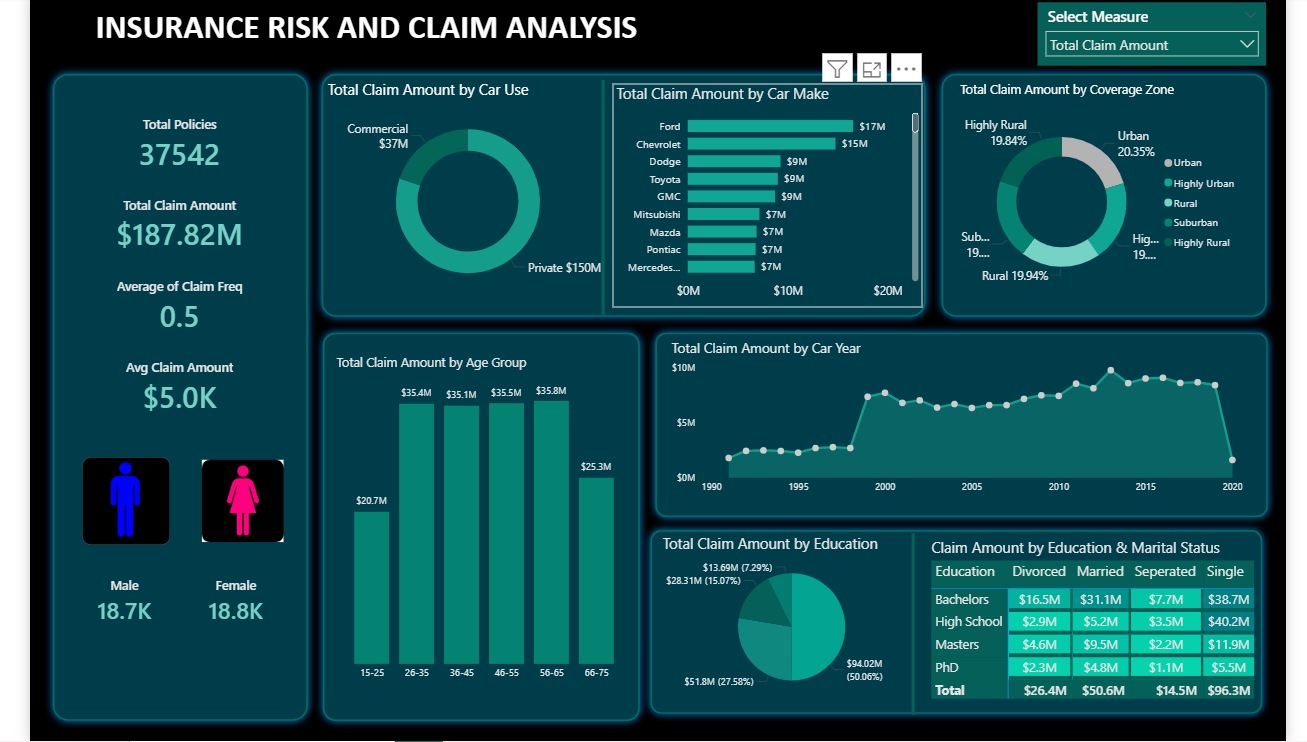

The page's visual inventory and layout, read from the dashboard file:
{"tool":"powerbi","page":{"name":"Insurance Risk & Claim Analysis","canvas":[1600,950],"ordinal":0},"visuals":[{"type":"textbox","box":[38.2,8,773.6,73.2],"z":0},{"type":"shape","box":[18.9,89.2,344.8,843.9],"z":1000},{"type":"cardVisual","fields":{"Data":["insurance_data_car.Total Policies","insurance_data_car.Total Claim Amount","Avg(insurance_data_car.Claim Freq)","insurance_data_car.Avg Claim Amount"]},"box":[62.1,135.3,257.9,404.3],"z":2000},{"type":"cardVisual","fields":{"Data":["insurance_data_car.Male Count","insurance_data_car.Female Count"]},"box":[54.1,714.7,275.4,109.8],"z":3000},{"type":"image","box":[62.1,571.5,121,143.3],"z":4000},{"type":"image","box":[213.3,585.8,114.6,114.6],"z":5000},{"type":"shape","box":[361.9,89.2,789,329.3],"z":6000},{"type":"slicer","fields":{"Values":["Select Measure 2.Select Measure"]},"box":[1283,8,291.3,81.2],"z":7000},{"type":"donutChart","fields":{"Y":["insurance_data_car.Total Claim Amount"],"Category":["insurance_data_car.Car Use"]},"box":[374.1,106.7,367.7,284.9],"z":8000},{"type":"clusteredBarChart","fields":{"Y":["insurance_data_car.Total Claim Amount"],"Category":["insurance_data_car.Car Make"]},"box":[741.8,111.4,394.8,284.9],"z":9000},{"type":"shape","box":[1150.9,89.2,434,329.3],"z":10000},{"type":"donutChart","fields":{"Y":["insurance_data_car.Total Claim Amount"],"Category":["insurance_data_car.Coverage Zone"]},"box":[1180.1,106.3,368.8,289.9],"z":11000},{"type":"shape","box":[363.6,418.5,423.7,514.6],"z":12000},{"type":"clusteredColumnChart","fields":{"Y":["insurance_data_car.Total Claim Amount"],"Category":["insurance_data_car.Age Group"]},"box":[385.9,454.5,387.7,425.4],"z":13000},{"type":"shape","box":[785.6,418.5,800,255],"z":14000},{"type":"areaChart","fields":{"Y":["insurance_data_car.Total Claim Amount"],"Category":["insurance_data_car.Car Year"]},"box":[811.3,435.7,737.6,207.5],"z":15000},{"type":"shape","box":[780.4,670.7,799.3,253.9],"z":16000},{"type":"pieChart","fields":{"Y":["insurance_data_car.Total Claim Amount"],"Category":["insurance_data_car.Education"]},"box":[800.7,684.5,339.1,213.3],"z":17000},{"type":"pivotTable","title":"Claim Amount by Education & Marital Status","fields":{"Rows":["insurance_data_car.Education"],"Columns":["insurance_data_car.Marital Status"],"Values":["insurance_data_car.Total Claim Amount"]},"box":[1142.9,689.3,431.4,216.5],"z":18000},{"type":"shape","box":[717.9,106.7,23.9,299.3],"z":19000},{"type":"shape","box":[1112.7,684.5,23.9,230.8],"z":20000}]}

Visuals, with their boxes on the page's 1600x950 design canvas (x1, y1, x2, y2). These are canvas units, not pixel positions in the 1307x742 screenshot, which may show the page scaled, cropped or inside an application window:
textbox: 38/8/812/81
shape: 19/89/364/933
cardVisual - insurance_data_car.Total Policies x insurance_data_car.Total Claim Amount: 62/135/320/540
cardVisual - insurance_data_car.Male Count x insurance_data_car.Female Count: 54/715/330/824
image: 62/572/183/715
image: 213/586/328/700
shape: 362/89/1151/418
slicer - Select Measure 2.Select Measure: 1283/8/1574/89
donutChart - insurance_data_car.Total Claim Amount x insurance_data_car.Car Use: 374/107/742/392
clusteredBarChart - insurance_data_car.Total Claim Amount x insurance_data_car.Car Make: 742/111/1137/396
shape: 1151/89/1585/418
donutChart - insurance_data_car.Total Claim Amount x insurance_data_car.Coverage Zone: 1180/106/1549/396
shape: 364/418/787/933
clusteredColumnChart - insurance_data_car.Total Claim Amount x insurance_data_car.Age Group: 386/454/774/880
shape: 786/418/1586/674
areaChart - insurance_data_car.Total Claim Amount x insurance_data_car.Car Year: 811/436/1549/643
shape: 780/671/1580/925
pieChart - insurance_data_car.Total Claim Amount x insurance_data_car.Education: 801/684/1140/898
"Claim Amount by Education & Marital Status" pivotTable: 1143/689/1574/906
shape: 718/107/742/406
shape: 1113/684/1137/915
